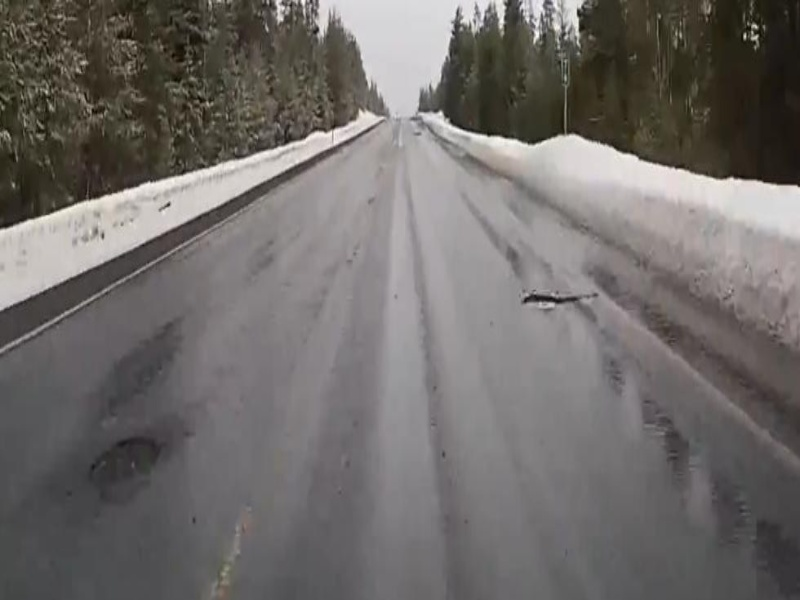pothole: (83, 433, 166, 500), (517, 290, 576, 311)
